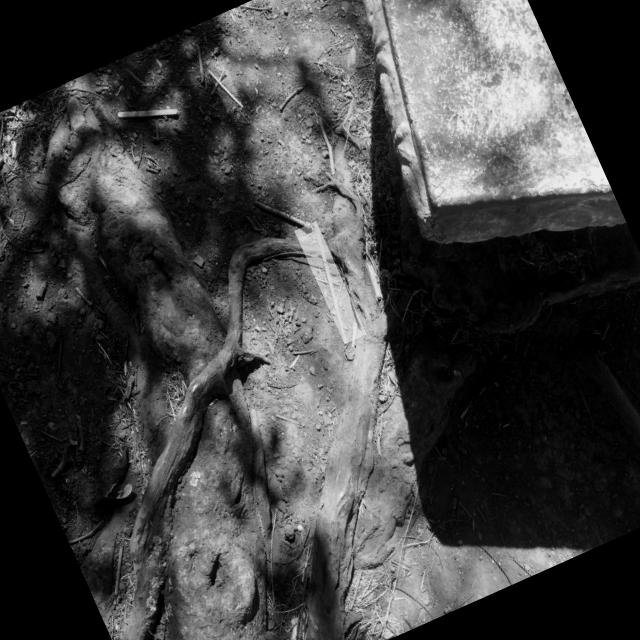Straw: (314, 223, 347, 344)
Unlabeled litter: (210, 70, 243, 108)
